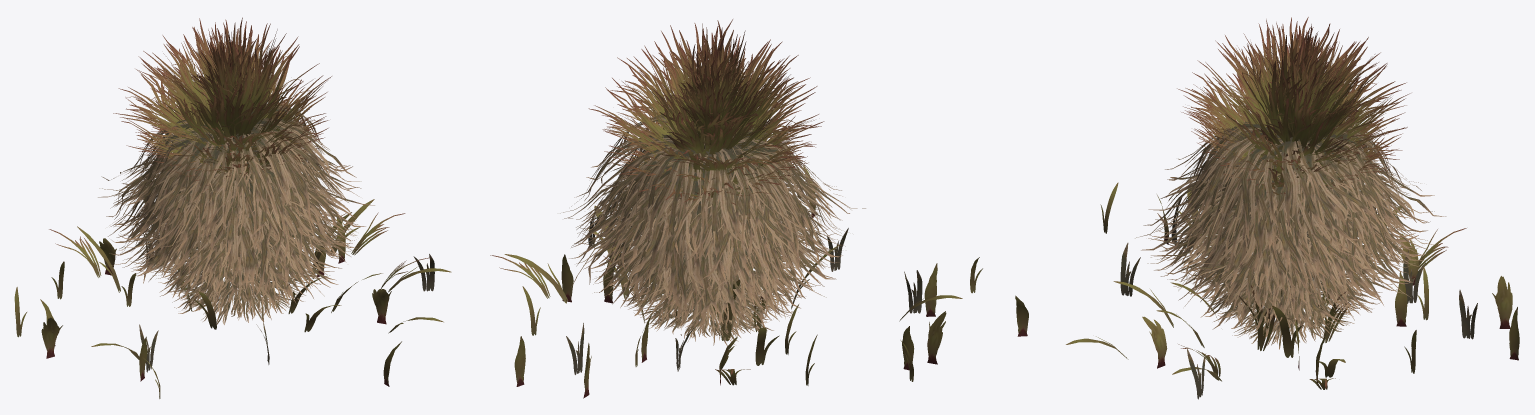
The picture shows the model from 3 angles, left to right: view 1: azimuth 30°, elevation 25°; view 2: azimuth 150°, elevation 25°; view 3: azimuth 270°, elevation 25°; orthographic projection. The views are drawn at different scales.
Parts seen in each view (by area): view 1: SM_US_TuftSedge_03_LOD0; view 2: SM_US_TuftSedge_03_LOD0; view 3: SM_US_TuftSedge_03_LOD0.
Part boxes in pixels (bbox=[...]): SM_US_TuftSedge_03_LOD0: bbox=[14, 17, 451, 398]; SM_US_TuftSedge_03_LOD0: bbox=[490, 19, 982, 398]; SM_US_TuftSedge_03_LOD0: bbox=[1015, 17, 1519, 399].
Bounding box in the file's own units: 1.29 × 0.861 × 1.32.
1 material, 1 textured.
